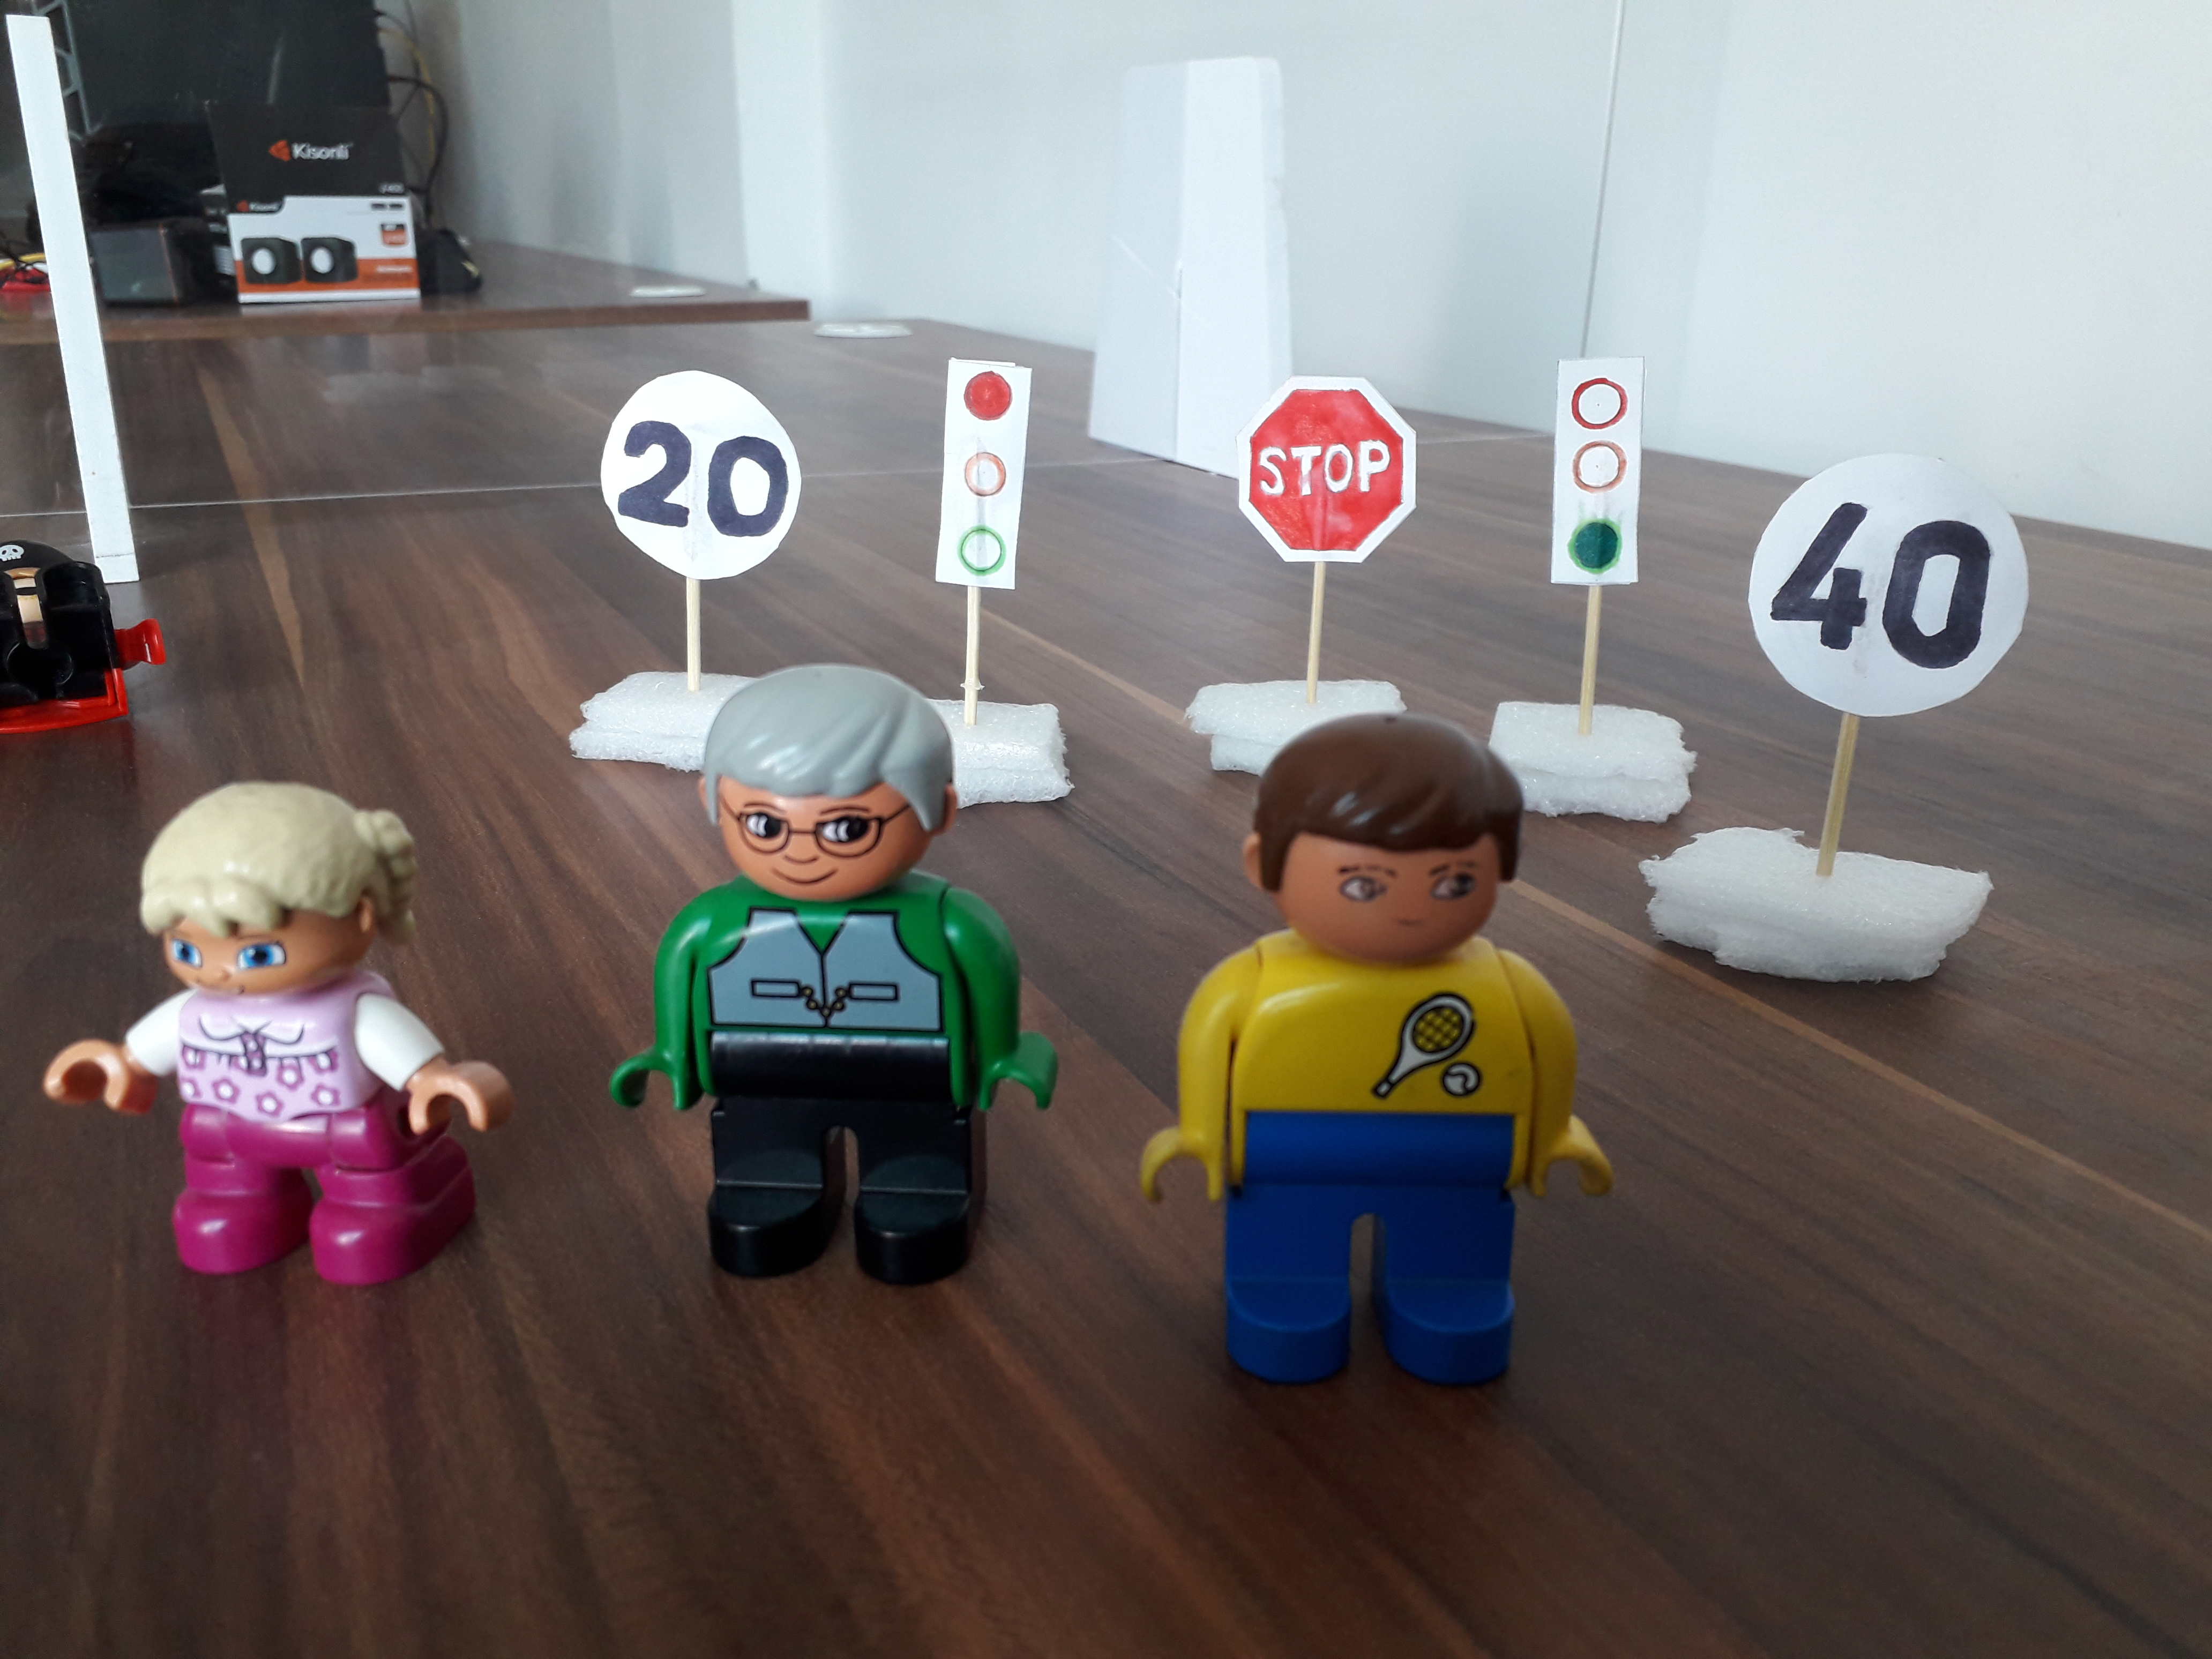20_sign: (599, 364, 806, 577)
40_sign: (1743, 454, 2034, 719)
green_light: (1549, 354, 1650, 589)
person: (1133, 719, 1620, 1395), (607, 666, 1066, 1286), (46, 786, 515, 1288)
red_light: (926, 357, 1028, 592)
stop_sign: (1232, 375, 1423, 571)
